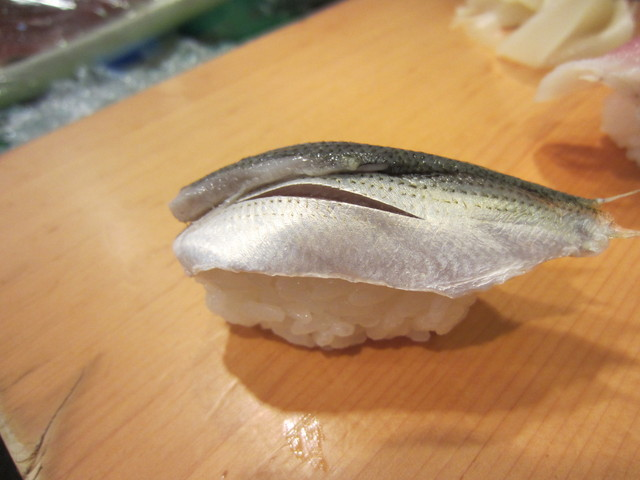spotted-shad: (165, 138, 618, 364)
